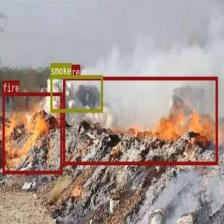fire: (63, 76, 217, 164), (2, 92, 62, 174)
smoke: (50, 75, 103, 112)
